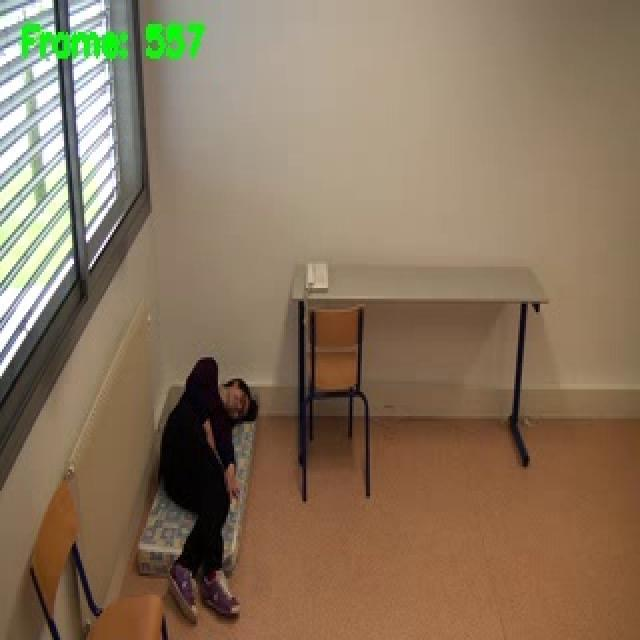fall: (153, 352, 261, 620)
